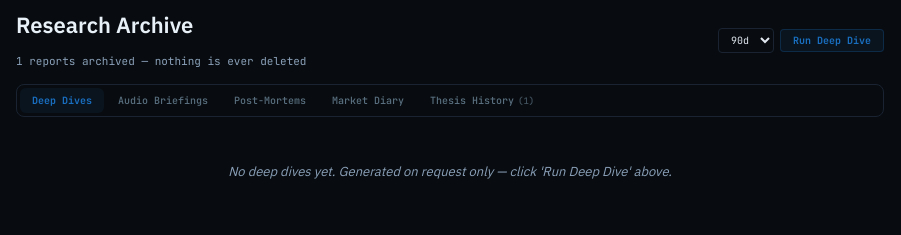
Archive view async data › shows a scoring-held banner on the theses tab even when snapshots exist
Click the button "Thesis History(1)" at (482, 101), box [418, 88, 546, 113]
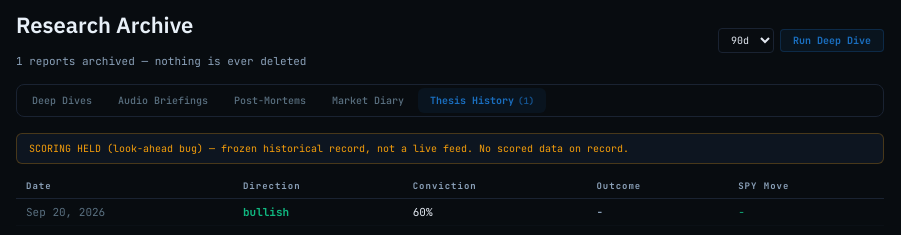
Result: the text "SCORING HELD" is shown at [29, 142, 473, 155]
